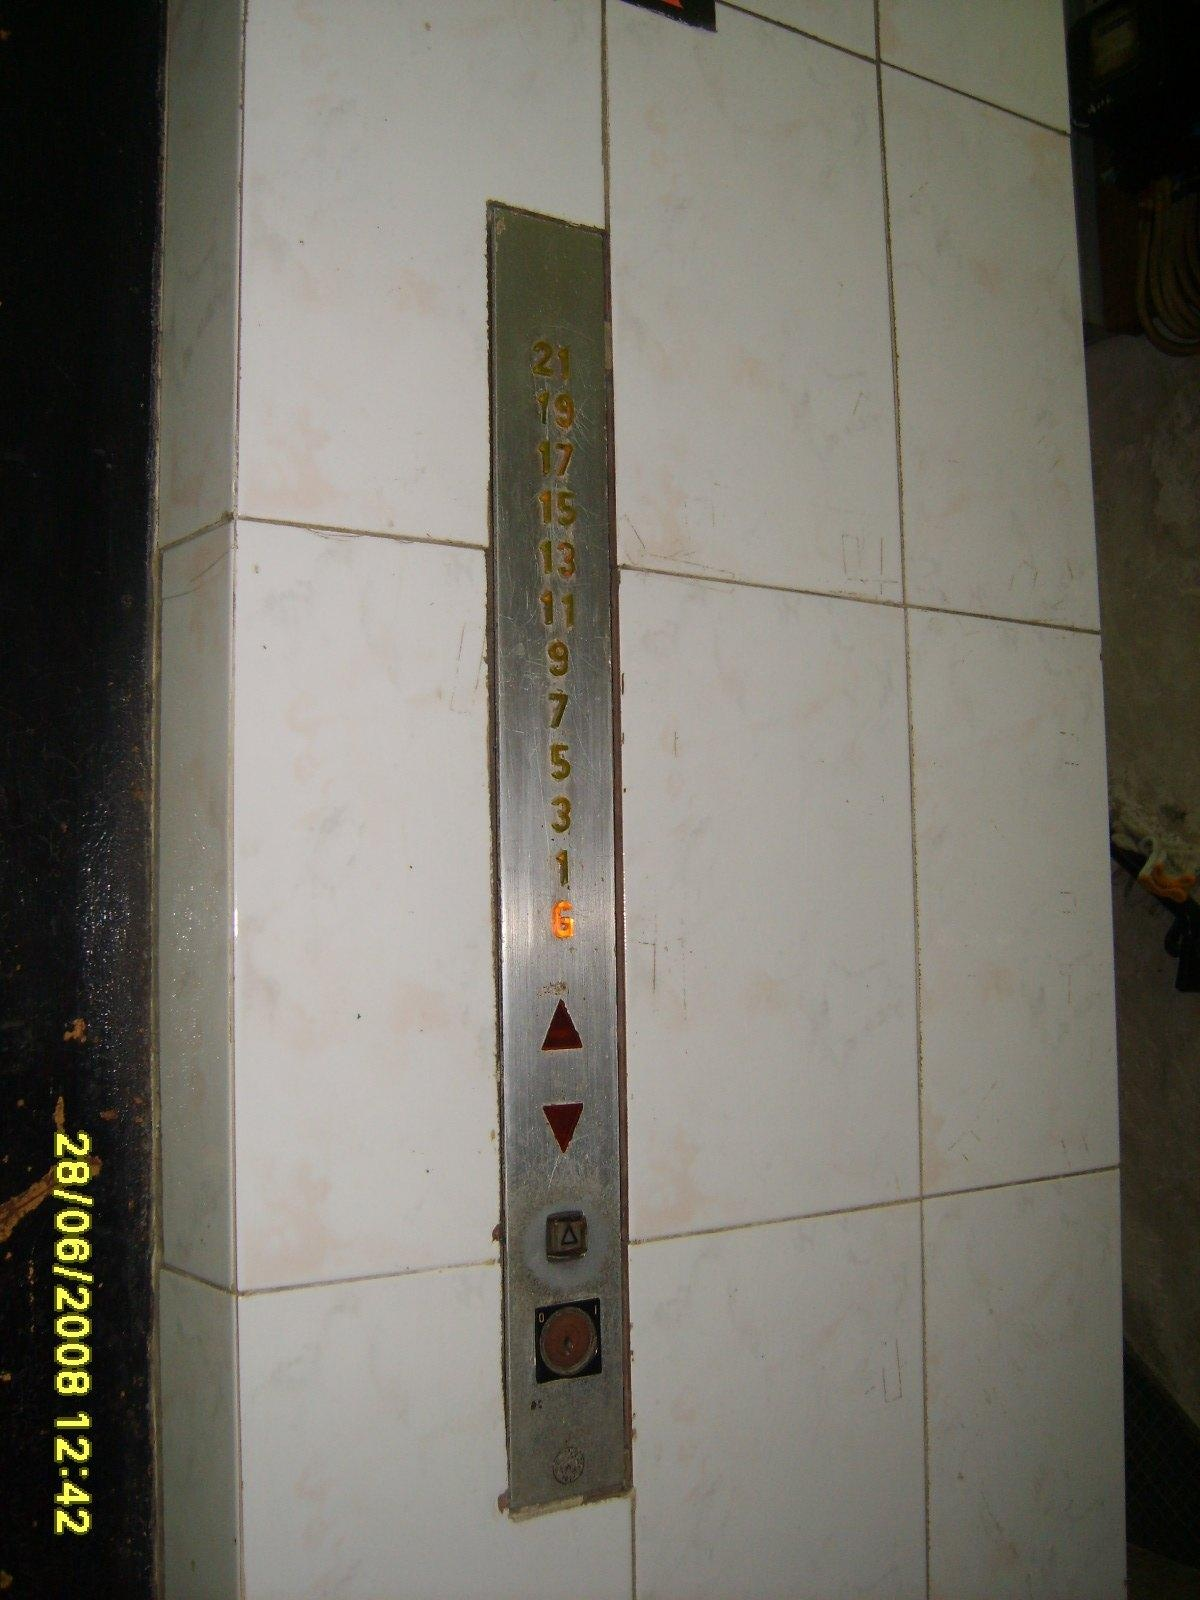down: (543, 1104, 584, 1153)
keyhole: (534, 1298, 603, 1383)
up: (545, 1211, 589, 1262), (541, 998, 584, 1051)
